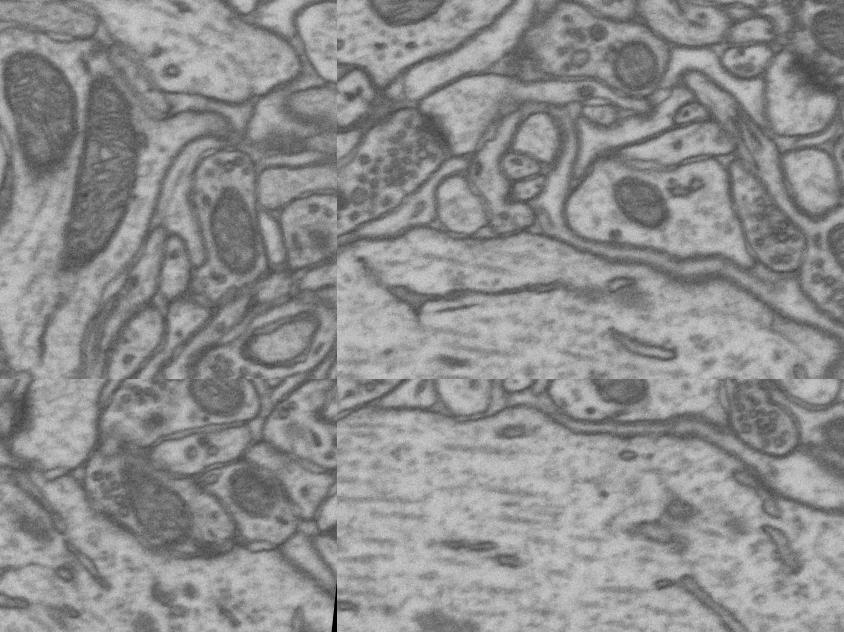mitochondria: (46, 70, 150, 287), (0, 39, 90, 186), (102, 452, 207, 557), (200, 181, 268, 280), (614, 177, 700, 249), (594, 7, 666, 90), (218, 455, 292, 532), (337, 0, 457, 41), (580, 379, 678, 429), (791, 390, 844, 482), (799, 0, 844, 108), (175, 379, 259, 431), (337, 157, 364, 238), (823, 206, 844, 299)
